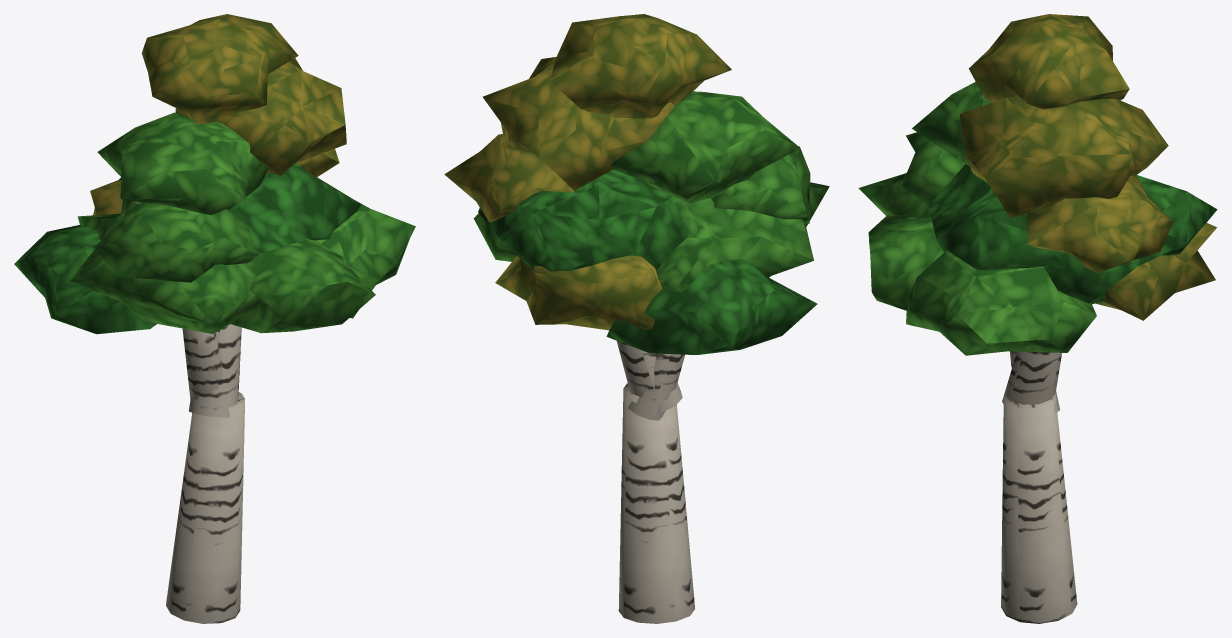
The model's file is resource_tree_birch.glb.
The picture shows the model from 3 angles, left to right: view 1: azimuth 30°, elevation 25°; view 2: azimuth 150°, elevation 25°; view 3: azimuth 270°, elevation 25°; orthographic projection. The views are drawn at different scales.
Parts seen in each view (by area): view 1: resource_tree_birch; view 2: resource_tree_birch; view 3: resource_tree_birch.
Part boxes in pixels (<box>): resource_tree_birch: <box>14,14,415,623</box>; resource_tree_birch: <box>444,14,829,623</box>; resource_tree_birch: <box>858,14,1217,623</box>.
Size of the model in its own units: 2.89 by 4.8 by 2.63.
Materials: 4 (4 with a texture image).
